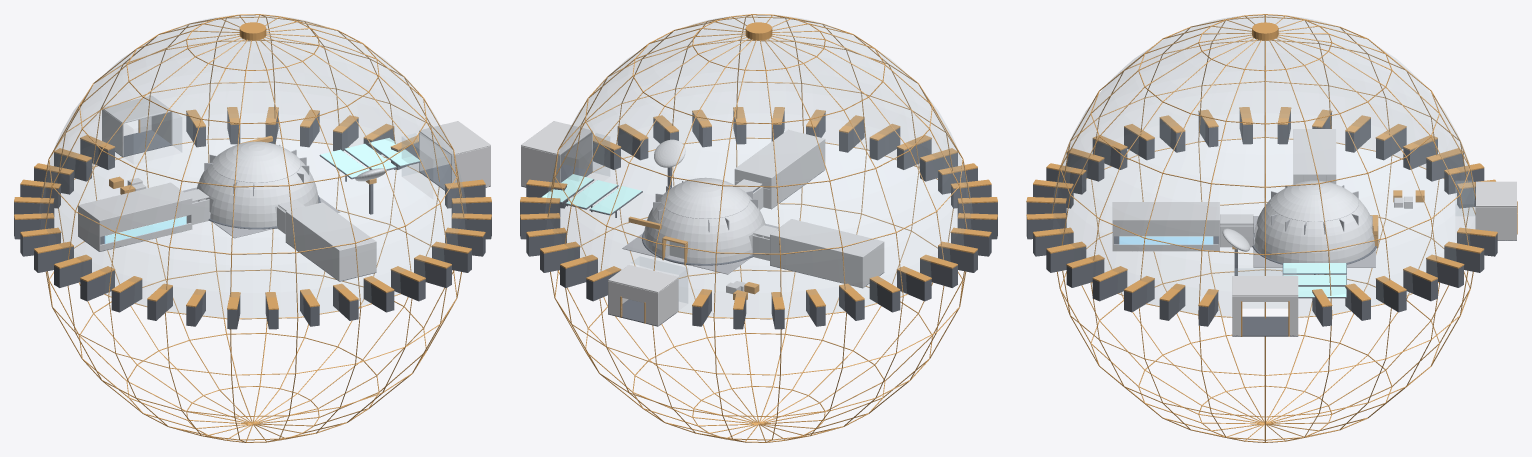
File: SM_MoonBase_Custom.glb
3 views of the same model, side by side, from view 1: azimuth 30°, elevation 25°; view 2: azimuth 150°, elevation 25°; view 3: azimuth 270°, elevation 25° (orthographic).
Visible parts, largest first — view 1: Glass_Hemisphere, Glass_Lattice, Dome_Shell, ModA_Roof, ModB_Roof, ModB_WallW, ModA_WallS_High, AirE_Roof, AirE_W1, ModB_EndN, AirS_Roof, AirS_Floor (+32 smaller); view 2: Glass_Hemisphere, Glass_Lattice, Dome_Shell, ModA_WallN, ModA_Roof, ModB_Roof, ModB_WallW, AirE_Roof, AirE_W2, AirS_Roof, AirE_W1, Dome_Floor (+30 smaller); view 3: Glass_Hemisphere, Glass_Lattice, Dome_Shell, ModB_Roof, ModA_Roof, ModB_WallE_High, AirE_Roof, AirS_W2, AirS_Roof, AirE_Floor, ModB_Win, ModB_WallE_Low (+27 smaller).
Boxes of the visible parts, x1,y1,x2,y2 form: Glass_Hemisphere: (39, 15, 466, 318); Glass_Lattice: (41, 14, 464, 442); Dome_Shell: (197, 141, 318, 227); ModA_Roof: (78, 183, 191, 221); ModB_Roof: (285, 203, 376, 251); ModB_WallW: (285, 211, 340, 281); ModA_WallS_High: (99, 198, 191, 236); AirE_Roof: (419, 121, 490, 155); AirE_W1: (451, 146, 490, 187); ModB_EndN: (339, 242, 376, 280); AirS_Roof: (103, 95, 172, 123); AirS_Floor: (115, 130, 171, 157); Glass_Hemisphere: (545, 15, 972, 318); Glass_Lattice: (547, 14, 970, 442); Dome_Shell: (643, 177, 765, 263); ModA_WallN: (770, 235, 863, 287); ModA_Roof: (770, 219, 884, 257); ModB_Roof: (734, 130, 824, 178); ModB_WallW: (771, 140, 825, 208); AirE_Roof: (521, 121, 592, 155); AirE_W2: (521, 146, 560, 186); AirS_Roof: (608, 265, 678, 292); AirE_W1: (560, 132, 592, 171); Dome_Floor: (622, 223, 778, 274); Glass_Hemisphere: (1052, 15, 1476, 317); Glass_Lattice: (1052, 14, 1475, 442); Dome_Shell: (1254, 180, 1374, 262); ModB_Roof: (1112, 202, 1219, 220); ModA_Roof: (1293, 129, 1336, 175); ModB_WallE_High: (1112, 219, 1219, 236); AirE_Roof: (1232, 276, 1298, 295); AirS_W2: (1475, 207, 1516, 239); AirS_Roof: (1475, 181, 1516, 206); AirE_Floor: (1232, 316, 1297, 336); ModB_Win: (1119, 236, 1213, 244); ModB_WallE_Low: (1112, 244, 1219, 251).
Size of the model in its own units: 60.04 by 52.97 by 59.49.
